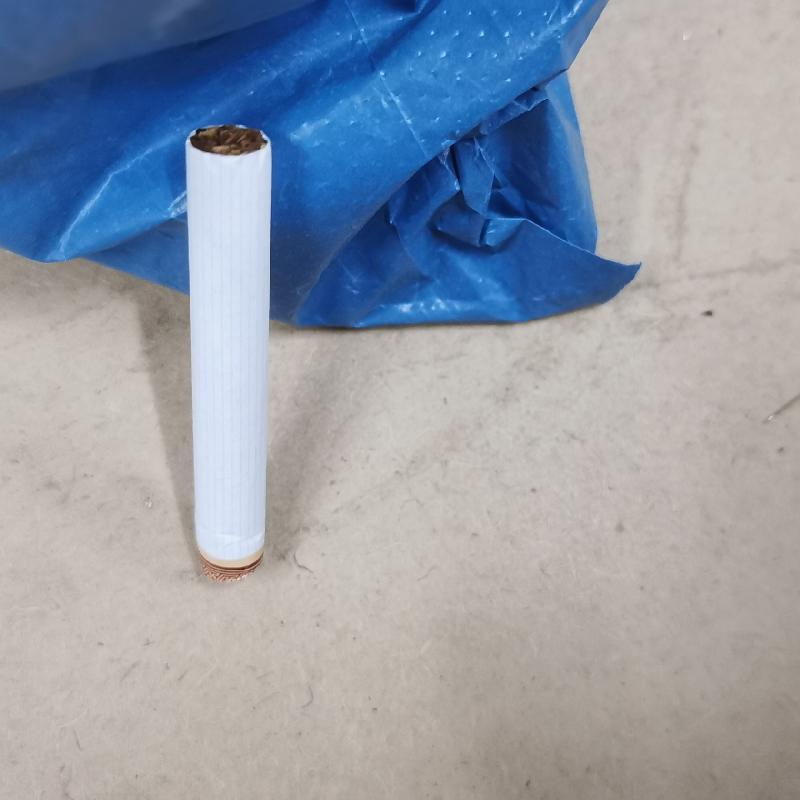cigarette: (181, 124, 277, 585)
